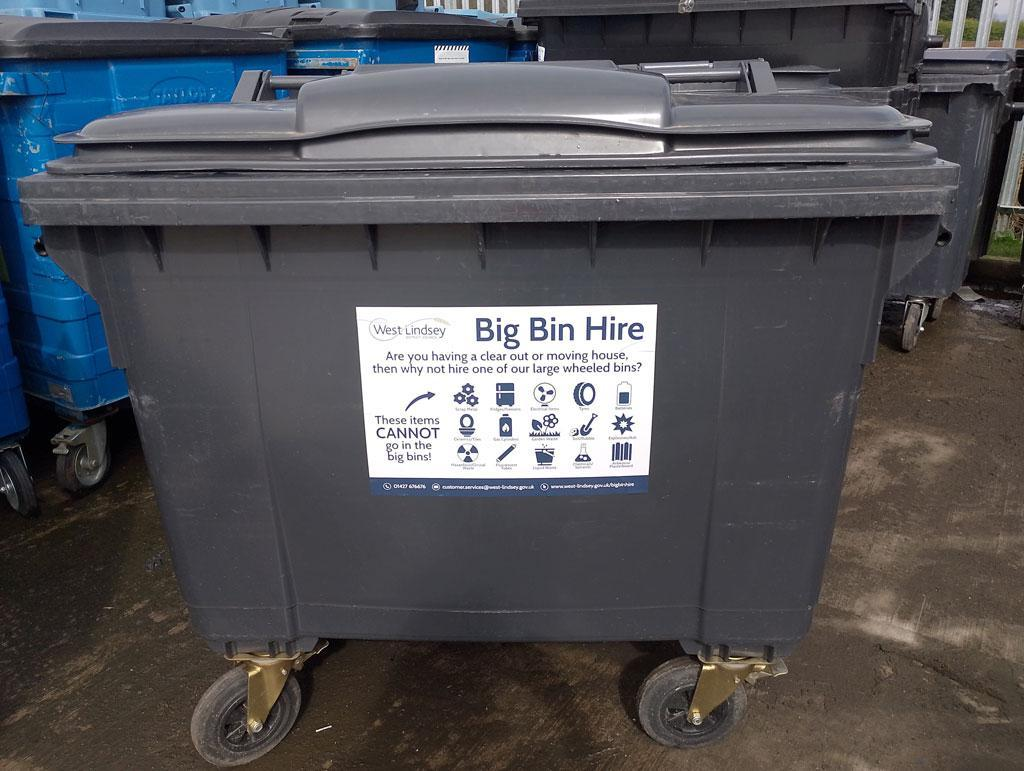trash bin: (14, 53, 965, 767)
